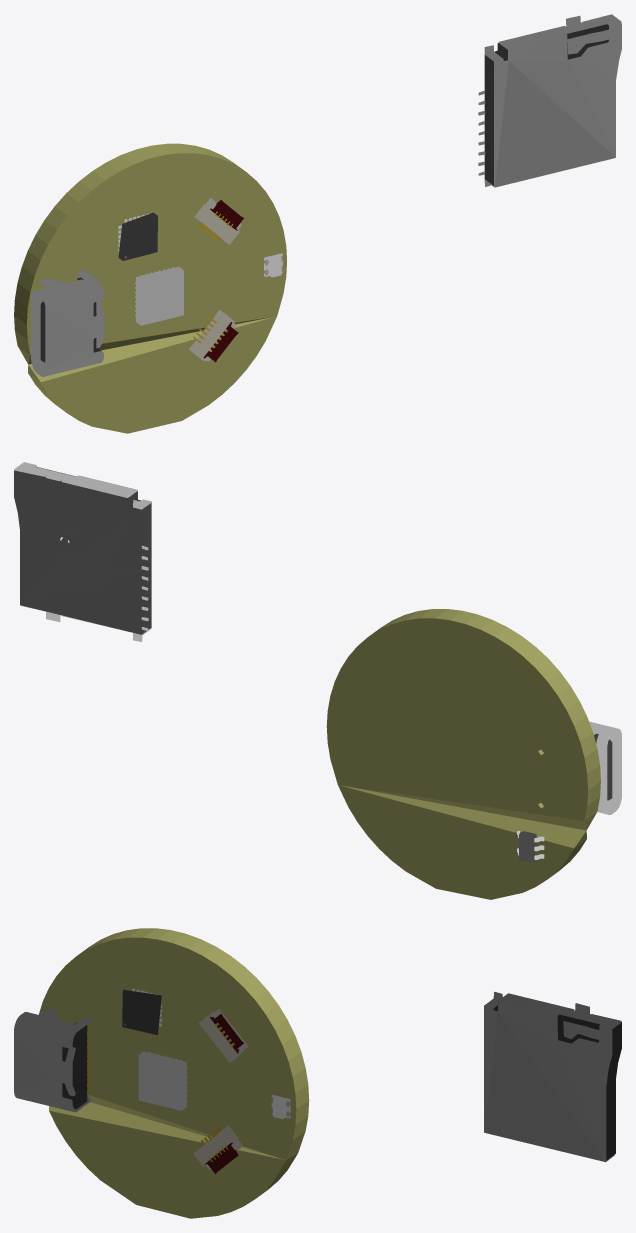
File: OBJ_PCB_motion capture testbed_4.obj
The picture shows the model from 3 angles, top to bottom: view 1: azimuth 30°, elevation 25°; view 2: azimuth 150°, elevation 25°; view 3: azimuth 330°, elevation 25°; orthographic projection.
Bounding box in the file's own units: 263 × 133 × 30.9.
